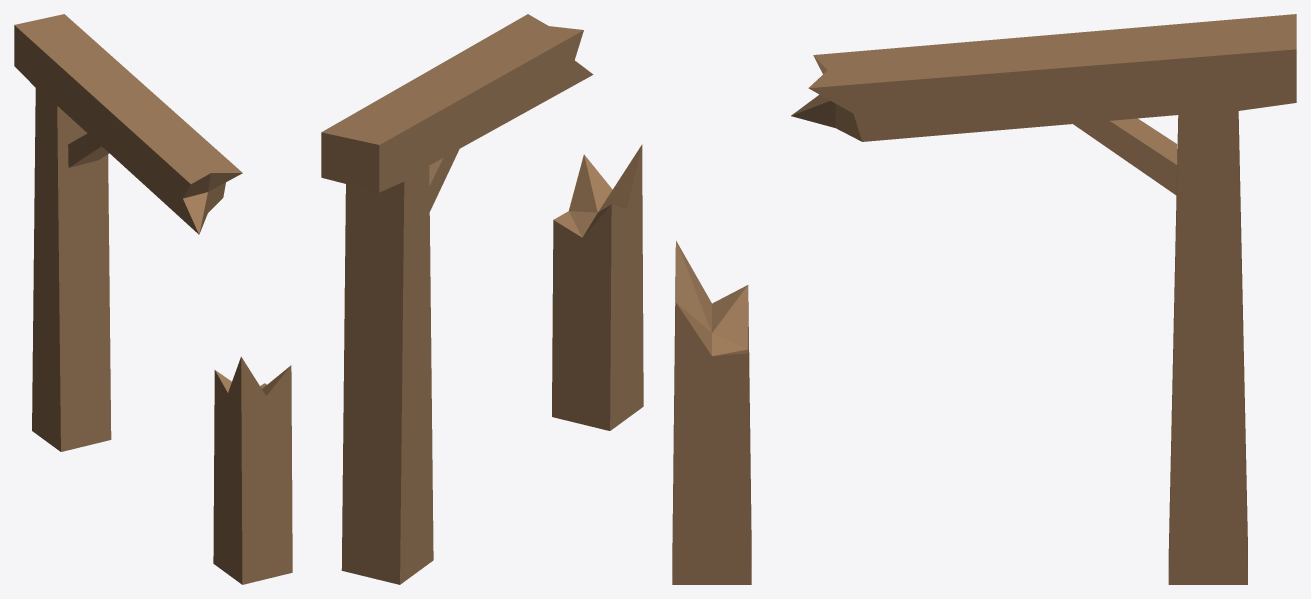
The model's file is MineBrokenFrame01.fbx.
3 renders of one model, left to right at view 1: azimuth 30°, elevation 25°; view 2: azimuth 150°, elevation 25°; view 3: azimuth 270°, elevation 25°, orthographic. The views are drawn at different scales.
Visible parts, largest first — view 1: MineBrokenFrame01; view 2: MineBrokenFrame01; view 3: MineBrokenFrame01.
Boxes of the visible parts, left/top/right/bottom form: MineBrokenFrame01: left=14, top=14, right=292, bottom=584; MineBrokenFrame01: left=321, top=14, right=643, bottom=584; MineBrokenFrame01: left=672, top=14, right=1296, bottom=584.
Bounding box in the file's own units: 396 × 377 × 50.42.
